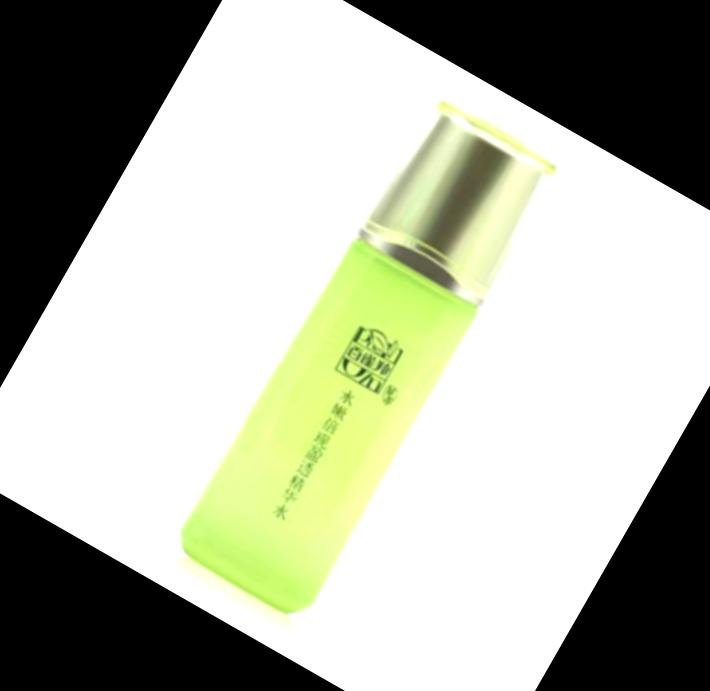cosmetic: (181, 91, 567, 614)
